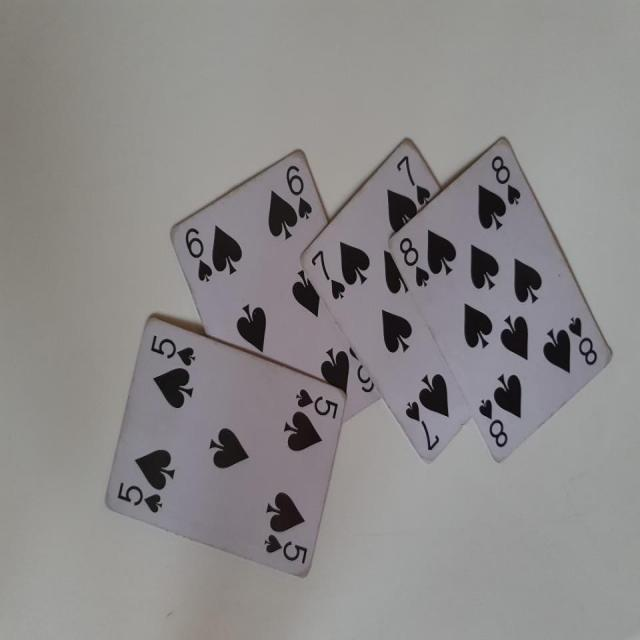5 Spades: (94, 312, 347, 587)
6 Spades: (165, 142, 387, 430)
7 Spades: (301, 132, 487, 474)
8 Spades: (384, 129, 607, 468)
